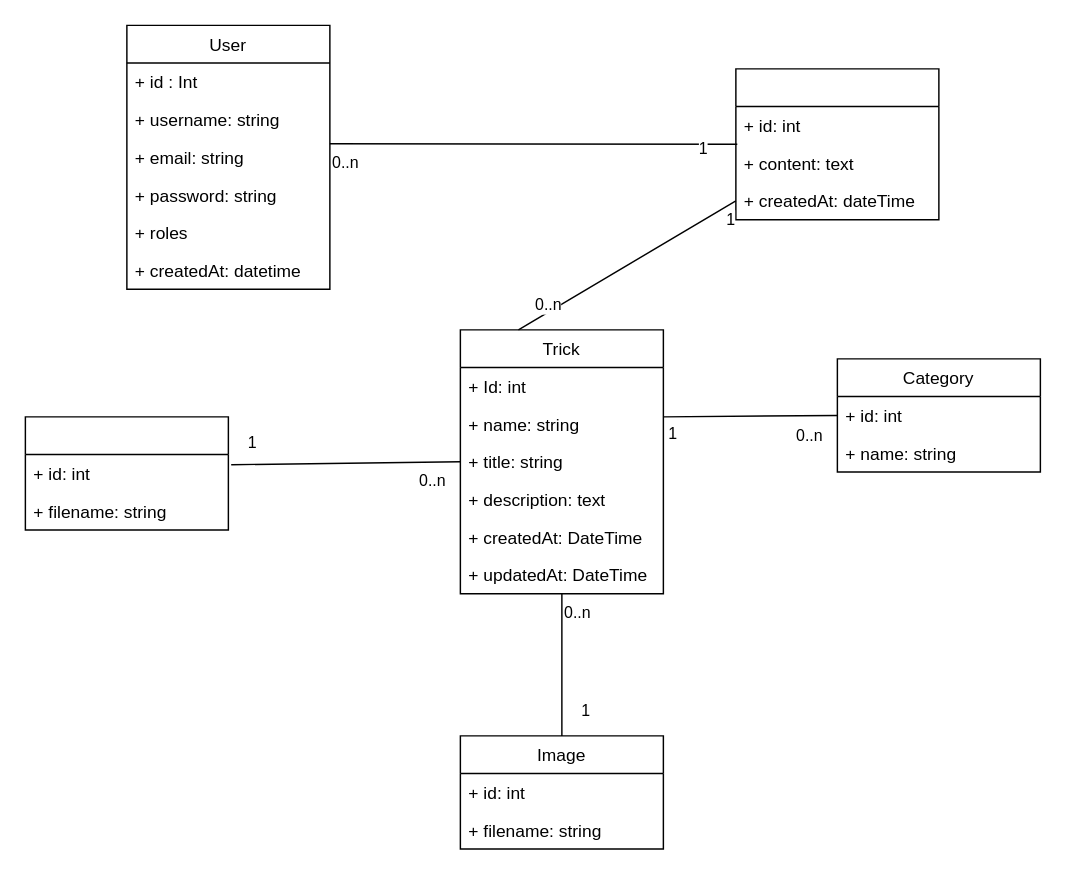
Image size: 1066x879. Some labels were removed from this diagram. Each missing label, with the box of its shape:
Comment: (734, 67, 939, 220)
Video: (24, 415, 228, 530)
